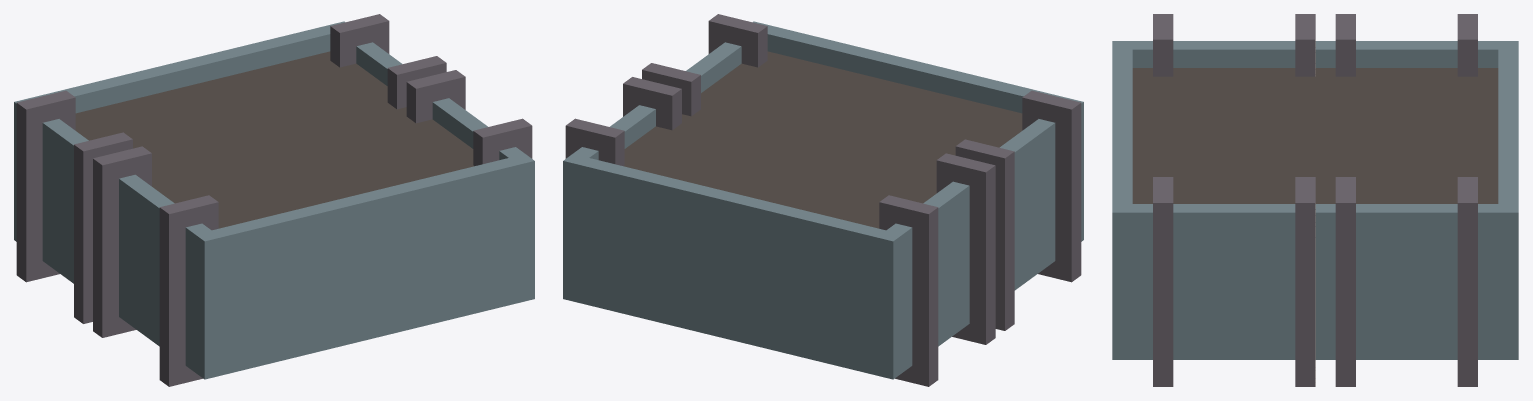
The model's file is outpost_1.glb.
The picture shows the model from 3 angles, left to right: view 1: azimuth 30°, elevation 25°; view 2: azimuth 150°, elevation 25°; view 3: azimuth 270°, elevation 25°; orthographic projection. The views are drawn at different scales.
Parts seen in each view (by area): view 1: Mesh_3.004, Mesh_11, Mesh_0.004, Mesh_1.004, Mesh_15, Mesh_6.003, Mesh_8.001, Mesh_5.004, Mesh_2.004, Mesh_14, Mesh_10.001, Mesh_4.004 (+1 smaller); view 2: Mesh_1.004, Mesh_11, Mesh_0.004, Mesh_3.004, Mesh_6.003, Mesh_5.004, Mesh_15, Mesh_8.001, Mesh_2.004, Mesh_4.004, Mesh_9.001, Mesh_14 (+1 smaller); view 3: Mesh_2.004, Mesh_11, Mesh_0.004, Mesh_4.004, Mesh_9.001, Mesh_10.001, Mesh_14, Mesh_3.004, Mesh_1.004, Mesh_5.004, Mesh_6.003, Mesh_8.001 (+1 smaller).
Boxes of the visible parts, x1,y1,x2,y2 form: Mesh_3.004: (204, 158, 534, 378); Mesh_11: (75, 51, 473, 228); Mesh_0.004: (14, 102, 221, 379); Mesh_1.004: (14, 21, 343, 240); Mesh_15: (16, 90, 75, 282); Mesh_6.003: (159, 195, 218, 386); Mesh_8.001: (93, 146, 151, 337); Mesh_5.004: (74, 132, 132, 323); Mesh_2.004: (343, 21, 534, 160); Mesh_14: (330, 14, 389, 67); Mesh_10.001: (406, 70, 465, 123); Mesh_4.004: (473, 118, 532, 166); Mesh_1.004: (563, 158, 902, 379); Mesh_11: (624, 51, 1022, 228); Mesh_0.004: (886, 102, 1083, 378); Mesh_3.004: (754, 21, 1083, 113); Mesh_6.003: (1022, 90, 1081, 282); Mesh_5.004: (936, 153, 995, 344); Mesh_15: (879, 195, 938, 386); Mesh_8.001: (955, 139, 1014, 330); Mesh_2.004: (563, 21, 754, 302); Mesh_4.004: (708, 14, 767, 67); Mesh_9.001: (623, 77, 681, 130); Mesh_14: (565, 118, 624, 166); Mesh_2.004: (1112, 204, 1518, 359); Mesh_11: (1132, 68, 1498, 203); Mesh_0.004: (1113, 41, 1517, 67); Mesh_4.004: (1153, 177, 1173, 386); Mesh_9.001: (1335, 177, 1355, 386); Mesh_10.001: (1295, 177, 1315, 386); Mesh_14: (1457, 177, 1477, 386); Mesh_3.004: (1112, 41, 1132, 359); Mesh_1.004: (1498, 41, 1518, 212); Mesh_5.004: (1335, 14, 1355, 76); Mesh_6.003: (1153, 14, 1173, 76); Mesh_8.001: (1295, 14, 1315, 76).
Bounding box in the file's own units: 5.5 × 2.5 × 5.
1 material, 1 textured.
